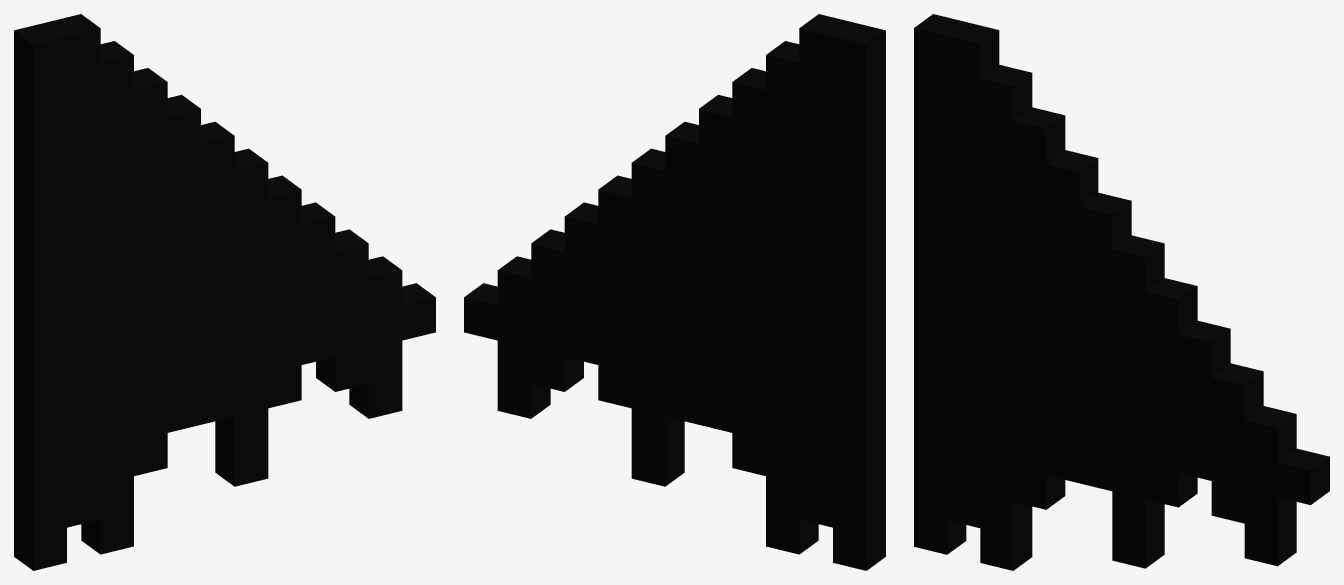
The model's file is Cursor.002.fbx.
3 renders of one model, left to right at view 1: azimuth 30°, elevation 25°; view 2: azimuth 150°, elevation 25°; view 3: azimuth 330°, elevation 25°, orthographic.
Parts seen in each view (by area): view 1: Cursor.002; view 2: Cursor.002; view 3: Cursor.002.
Part boxes in pixels (x1,y1,x2,y2): Cursor.002: (14,14,435,570); Cursor.002: (464,14,885,570); Cursor.002: (914,14,1329,570).
Bounding box in the file's own units: 1.2 × 1.5 × 0.1.
